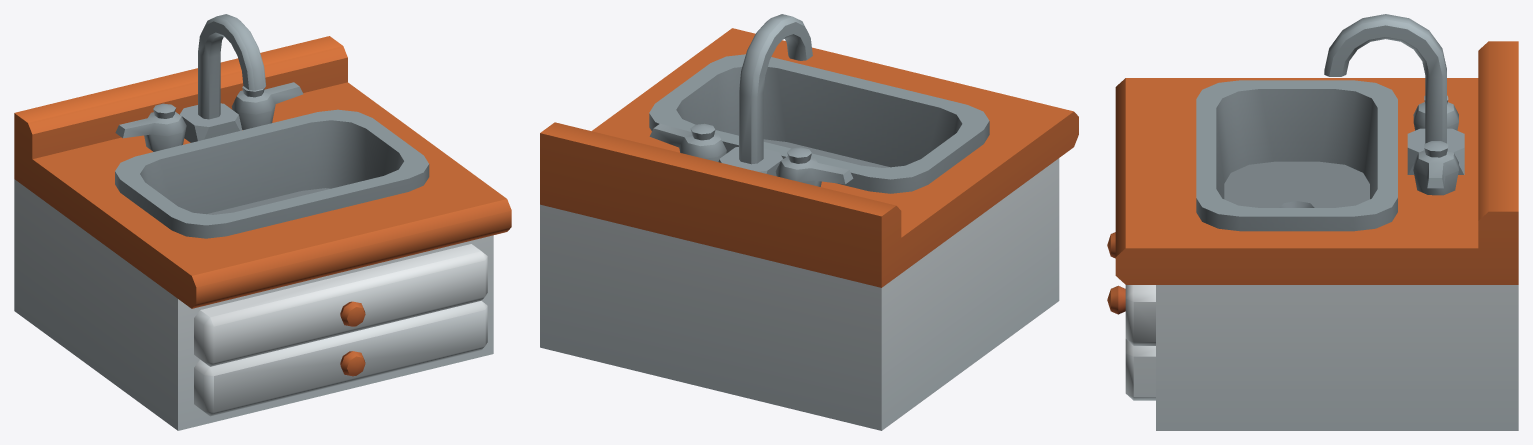
The model's file is kitchencounter_sink_backsplash.obj.
The picture shows the model from 3 angles, left to right: view 1: azimuth 30°, elevation 25°; view 2: azimuth 150°, elevation 25°; view 3: azimuth 270°, elevation 25°; orthographic projection. The views are drawn at different scales.
Visible parts, largest first — view 1: kitchencounter_sink_backsplash_Cube.076; view 2: kitchencounter_sink_backsplash_Cube.076; view 3: kitchencounter_sink_backsplash_Cube.076.
Part boxes in pixels (box(x1,y1,x2,y2)): kitchencounter_sink_backsplash_Cube.076: box(14, 14, 511, 430); kitchencounter_sink_backsplash_Cube.076: box(540, 14, 1078, 430); kitchencounter_sink_backsplash_Cube.076: box(1107, 14, 1518, 430).
Bounding box in the file's own units: 2 × 1.8 × 2.04.
1 material, 1 textured.
